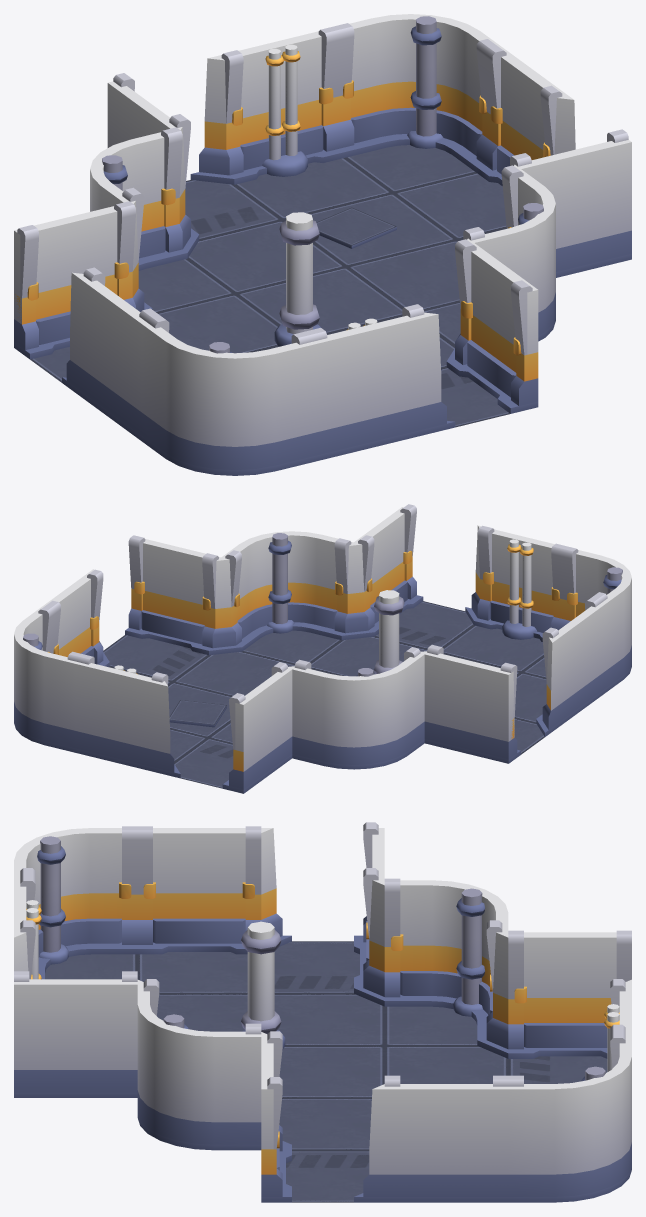
The model's file is kenney-space-room-large-variation.glb.
The picture shows the model from 3 angles, top to bottom: view 1: azimuth 30°, elevation 25°; view 2: azimuth 150°, elevation 25°; view 3: azimuth 270°, elevation 25°; orthographic projection. The views are drawn at different scales.
Parts seen in each view (by area): view 1: room-large-variation; view 2: room-large-variation; view 3: room-large-variation.
Part boxes in pixels (x1,y1,x2,y2): room-large-variation: (14,14,631,475); room-large-variation: (14,504,631,793); room-large-variation: (14,822,631,1202).
Size of the model in its own units: 15 by 3.19 by 15.
1 material, 1 textured.
